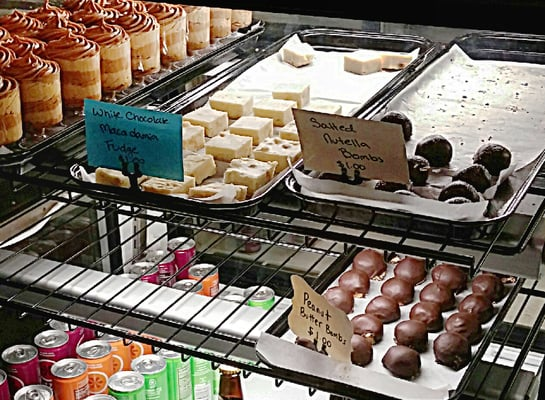salad: (433, 331, 471, 371), (381, 345, 421, 380), (394, 319, 429, 353), (365, 295, 400, 322), (445, 313, 480, 338)
sushi: (291, 110, 411, 188), (0, 49, 64, 130), (222, 156, 275, 200), (0, 75, 24, 146), (183, 106, 229, 139), (228, 115, 274, 146)
